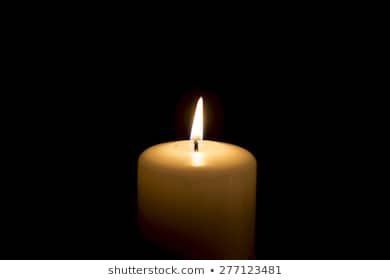fire: (187, 92, 206, 143)
